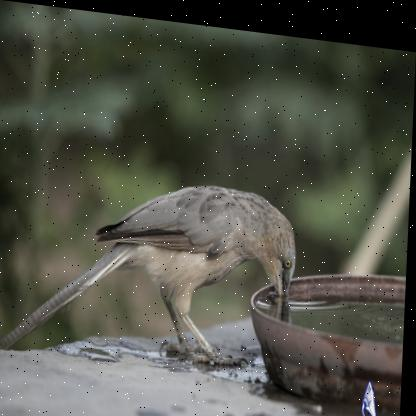Burung: (0, 158, 299, 377)
